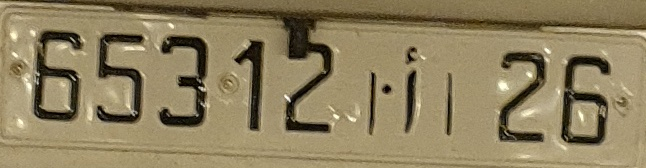1: (231, 36, 267, 133)
2: (282, 40, 338, 135), (495, 48, 548, 145)
3: (155, 32, 210, 130)
5: (94, 30, 146, 126)
6: (30, 26, 82, 123), (561, 53, 612, 147)
a: (401, 44, 420, 135)
